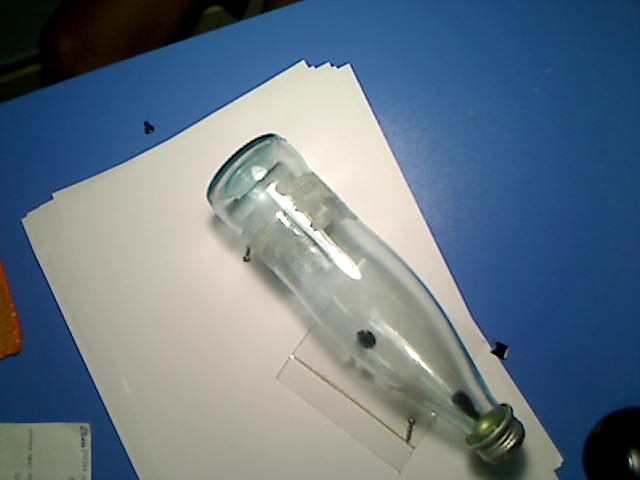bottle: (205, 131, 529, 467)
